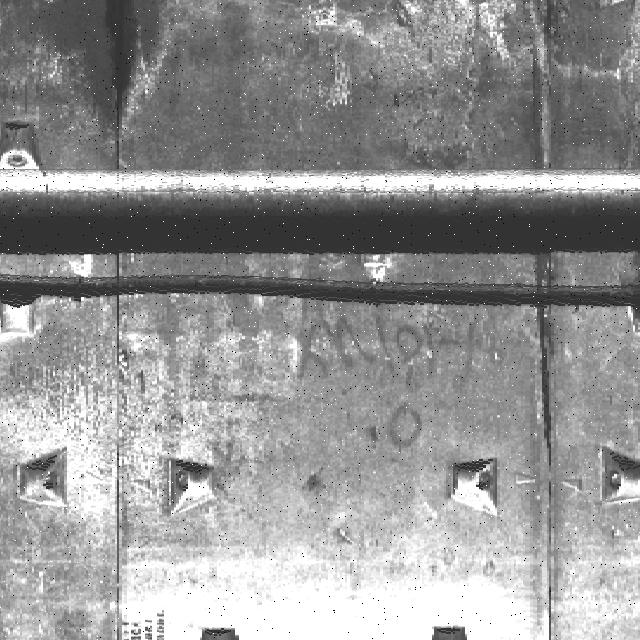leakage: (46, 1, 187, 150)
